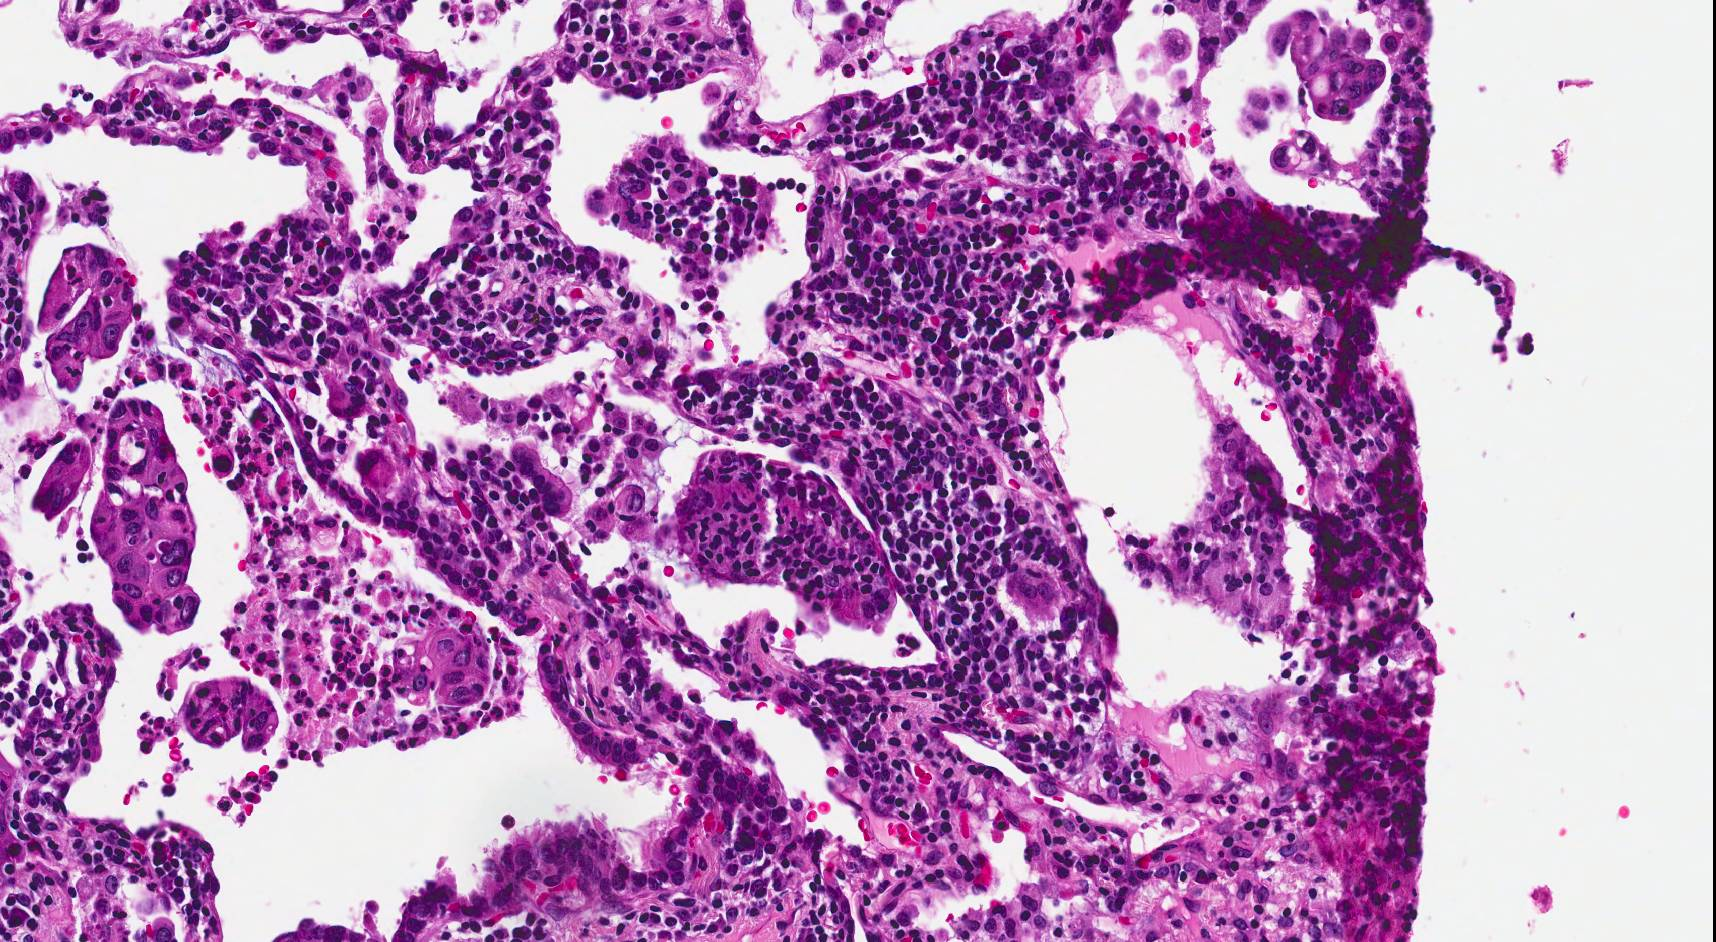stas: (91, 399, 201, 636), (38, 244, 138, 390), (1268, 6, 1384, 124), (400, 626, 490, 709), (184, 678, 278, 750), (30, 440, 91, 518), (1269, 128, 1340, 183)
